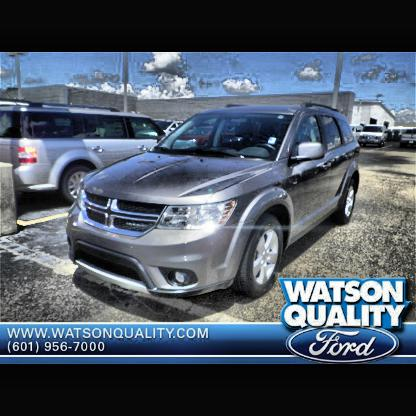Dodge Journey SUV 2012: (66, 103, 363, 305)
